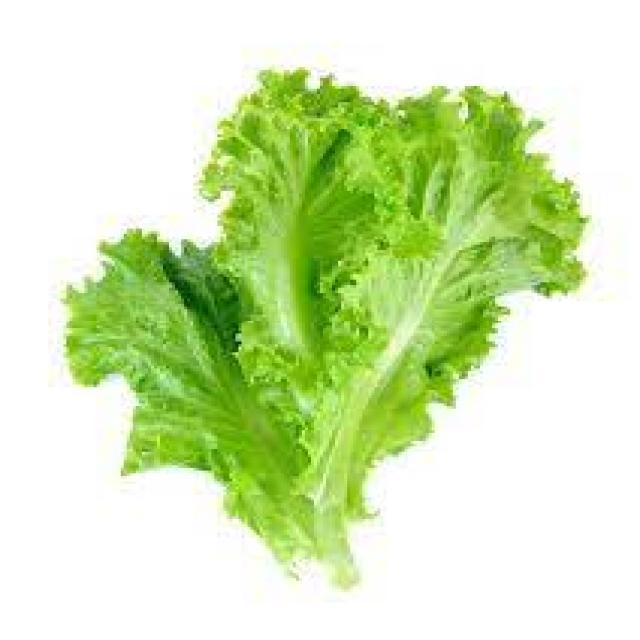Lettuce: (63, 65, 588, 590)
